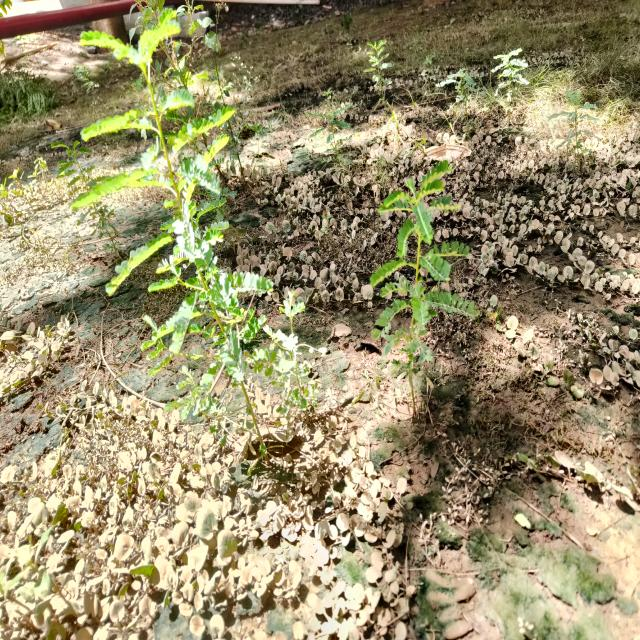weed: (53, 0, 272, 447), (367, 169, 484, 406)
